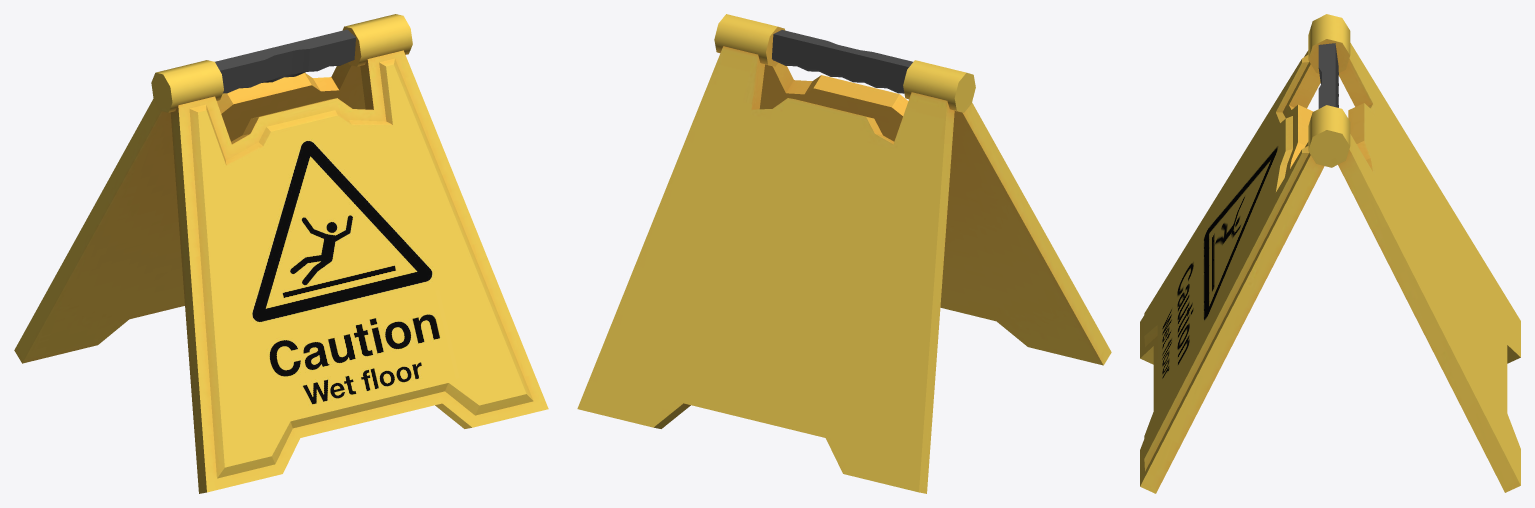
File: caution.fbx
3 views of the same model, side by side, from view 1: azimuth 30°, elevation 25°; view 2: azimuth 150°, elevation 25°; view 3: azimuth 270°, elevation 25° (orthographic).
Parts seen in each view (by area): view 1: caution_geo; view 2: caution_geo; view 3: caution_geo.
Boxes of the visible parts, x1=… form: caution_geo: x1=14, y1=14, x2=548, y2=493; caution_geo: x1=577, y1=14, x2=1111, y2=493; caution_geo: x1=1140, y1=14, x2=1520, y2=493.
Size of the model in its own units: 2.29 by 2.21 by 2.24.
Materials: 1 (1 with a texture image).
